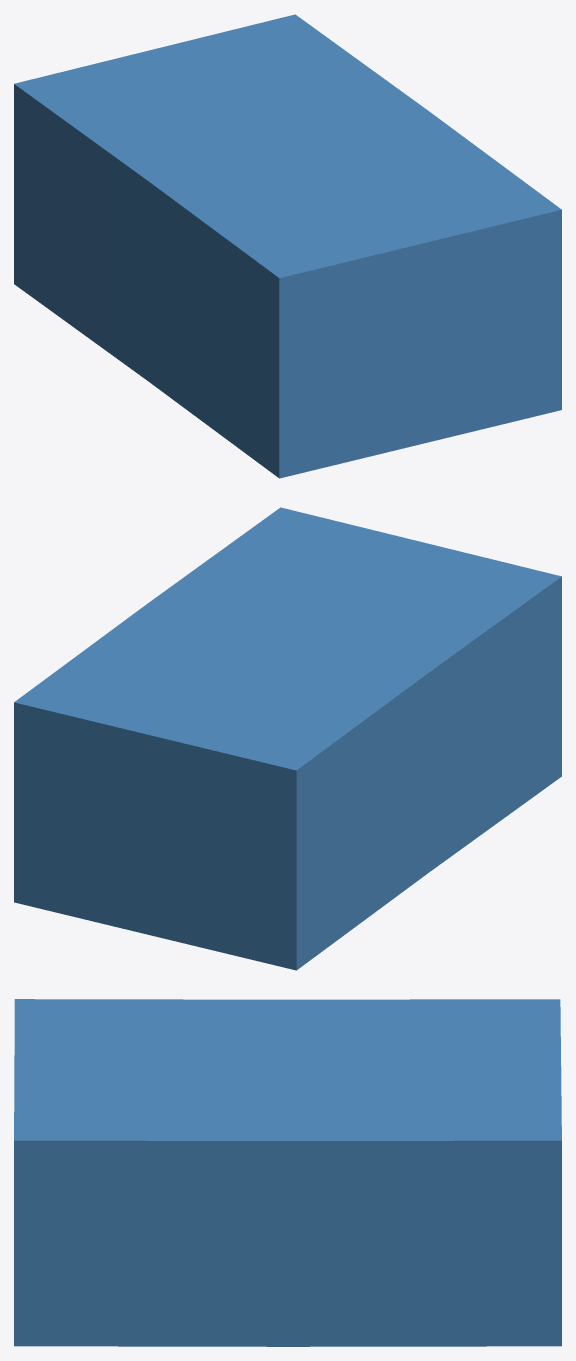
The model's file is pecera_cristal.obj.
3 renders of one model, top to bottom at view 1: azimuth 30°, elevation 25°; view 2: azimuth 150°, elevation 25°; view 3: azimuth 270°, elevation 25°, orthographic. The views are drawn at different scales.
Visible parts, largest first — view 1: pecera_cristal:Geoset7; view 2: pecera_cristal:Geoset7; view 3: pecera_cristal:Geoset7.
Boxes of the visible parts, bbox=[...] form: pecera_cristal:Geoset7: bbox=[14, 14, 561, 478]; pecera_cristal:Geoset7: bbox=[14, 507, 561, 970]; pecera_cristal:Geoset7: bbox=[14, 999, 561, 1346].
Bounding box in the file's own units: 2.7 × 1.82 × 4.4.
Materials: 2 (2 with a texture image).
